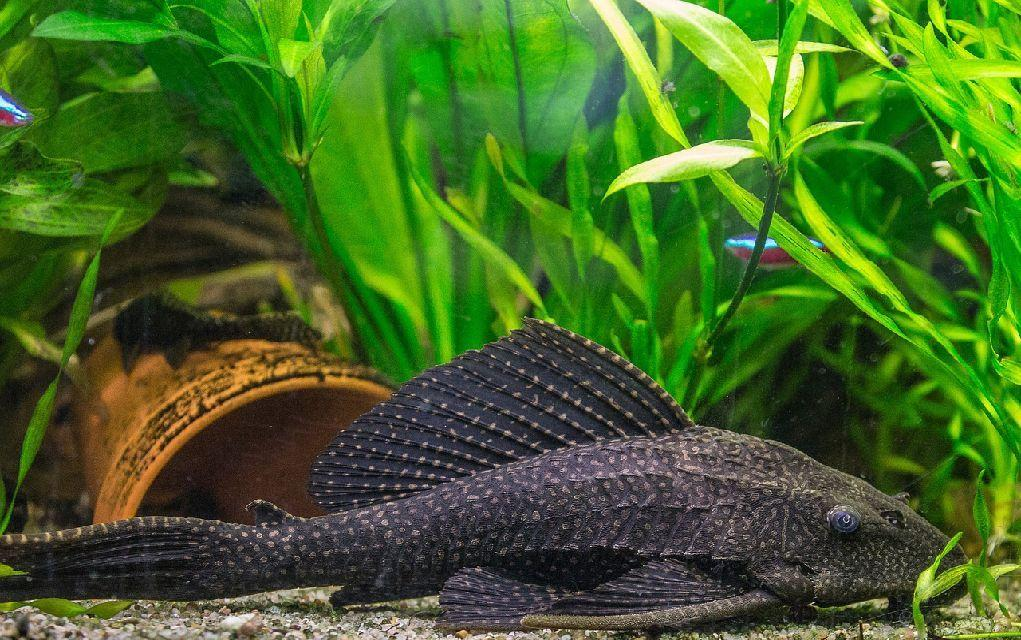Janitor Fish: (7, 327, 985, 632)
